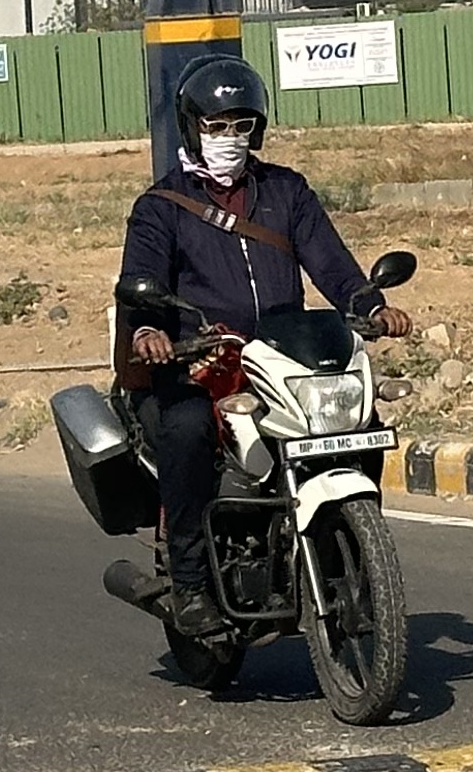BikeWithRider: (49, 52, 421, 733)
Helmet: (167, 51, 269, 185)
